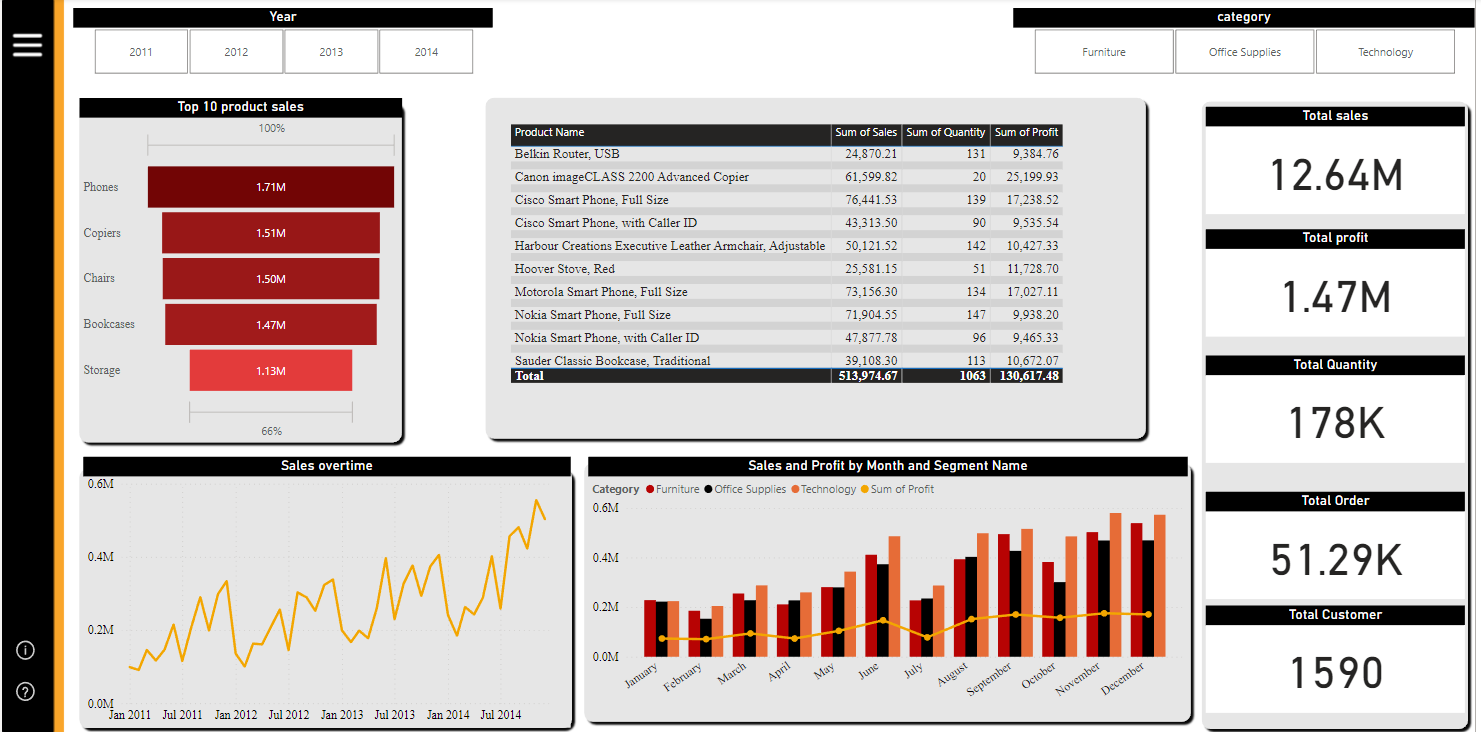

This screenshot's page, from the dashboard's own definition file:
{"tool":"powerbi","page":{"name":"Product","canvas":[1800,900],"ordinal":3},"visuals":[{"type":"group","id":"g1","title":"Menu Bar","box":[7.1,27.1,47.1,845.7],"z":0},{"type":"actionButton","title":"Qs","box":[11.7,822,33.2,50.9],"z":0,"group":"g1"},{"type":"actionButton","title":"Info","box":[11.7,771.1,33.2,50.9],"z":1000,"group":"g1"},{"type":"actionButton","title":"Menu Button","box":[7.1,27.1,47.1,59.5],"z":2000,"group":"g1"},{"type":"shape","box":[87.1,568.6,617.1,331.4],"z":2000},{"type":"lineChart","title":"Sales overtime","fields":{"Y":["Sum(FOrder.Sales)"],"Category":["DimDate.Order Date.Variation.Date Hierarchy.Year","DimDate.Order Date.Variation.Date Hierarchy.Quarter","DimDate.Order Date.Variation.Date Hierarchy.Month"]},"box":[98.6,561.4,595.7,331.4],"z":3000},{"type":"slicer","title":"Year","fields":{"Values":["DimDate.Order Date.Variation.Date Hierarchy.Year"]},"box":[87.1,12.9,512.9,87.1],"z":4000},{"type":"slicer","title":"category","fields":{"Values":["DimProduct.Category"]},"box":[1235.7,12.9,564.3,87.1],"z":5000},{"type":"shape","box":[704.3,561.4,755.7,331.4],"z":6000},{"type":"shape","box":[1460,118.6,340,781.4],"z":7000},{"type":"card","title":"Total sales","fields":{"Values":["Sum(FOrder.Sales)"]},"box":[1471.4,132.9,317.1,131.4],"z":8000},{"type":"card","title":"Total profit","fields":{"Values":["Sum(FOrder.Profit)"]},"box":[1471.4,282.9,317.1,131.4],"z":9000},{"type":"card","title":"Total Quantity","fields":{"Values":["Sum(FOrder.Quantity)"]},"box":[1471.4,437.1,317.1,131.4],"z":10000},{"type":"card","title":"Total Order","fields":{"Values":["CountNonNull(FOrder.Row ID)"]},"box":[1471.4,602.9,317.1,131.4],"z":11000},{"type":"card","title":"Total Customer","fields":{"Values":["Count(FOrder.Customer ID)"]},"box":[1471.4,742.9,317.1,131.4],"z":12000},{"type":"lineClusteredColumnComboChart","title":"Sales and Profit by Month and Segment Name","fields":{"Category":["DimDate.Order Date.Variation.Date Hierarchy.Month"],"Y":["Sum(FOrder.Sales)"],"Y2":["Sum(FOrder.Profit)"],"Series":["DimProduct.Category"]},"box":[717.1,561.4,732.9,315.7],"z":13000},{"type":"shape","box":[87.1,118.6,408.6,431.4],"z":14000},{"type":"funnel","title":"Top 10 product sales","fields":{"Category":["DimProduct.Sub-category"],"Y":["Sum(FOrder.Sales)"]},"box":[94.3,122.9,394.3,422.9],"z":15000},{"type":"shape","box":[584.3,114.3,821.4,431.4],"z":16000},{"type":"tableEx","fields":{"Values":["DimProduct.Product Name","Sum(FOrder.Sales)","Sum(FOrder.Quantity)","Sum(FOrder.Profit)"]},"box":[615.7,150,790,352.9],"z":19000}]}

Visuals, with their boxes in screenshot pixels (x1, y1, x2, y2), scaled from the page's 1800x900 canvas onto the 1481x732 screenshot:
"Menu Bar" group: 6:22:45:710
"Qs" actionButton: 10:669:37:710
"Info" actionButton: 10:627:37:669
"Menu Button" actionButton: 6:22:45:70
shape: 72:462:579:731
"Sales overtime" lineChart: 81:457:571:726
"Year" slicer: 72:10:494:81
"category" slicer: 1017:10:1480:81
shape: 579:457:1201:726
shape: 1201:96:1480:731
"Total sales" card: 1211:108:1472:215
"Total profit" card: 1211:230:1472:337
"Total Quantity" card: 1211:356:1472:462
"Total Order" card: 1211:490:1472:597
"Total Customer" card: 1211:604:1472:711
"Sales and Profit by Month and Segment Name" lineClusteredColumnComboChart: 590:457:1193:713
shape: 72:96:408:447
"Top 10 product sales" funnel: 78:100:402:444
shape: 481:93:1157:444
tableEx - DimProduct.Product Name x Sum(FOrder.Sales): 507:122:1157:409
